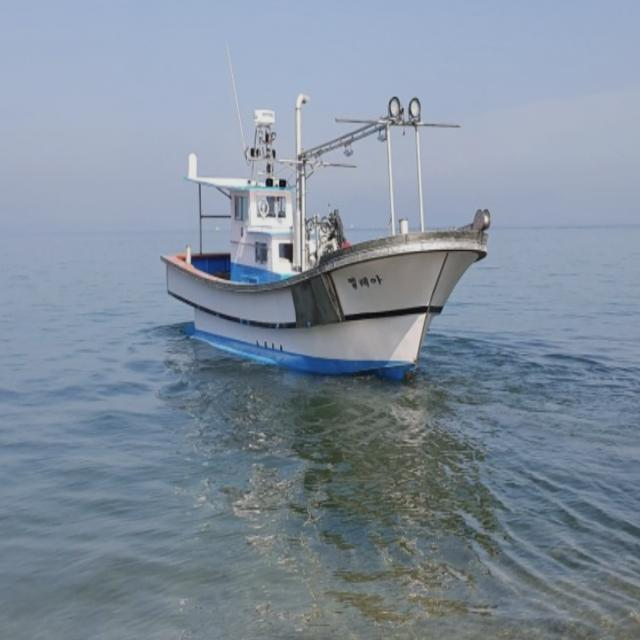Ship: (168, 67, 499, 413)
